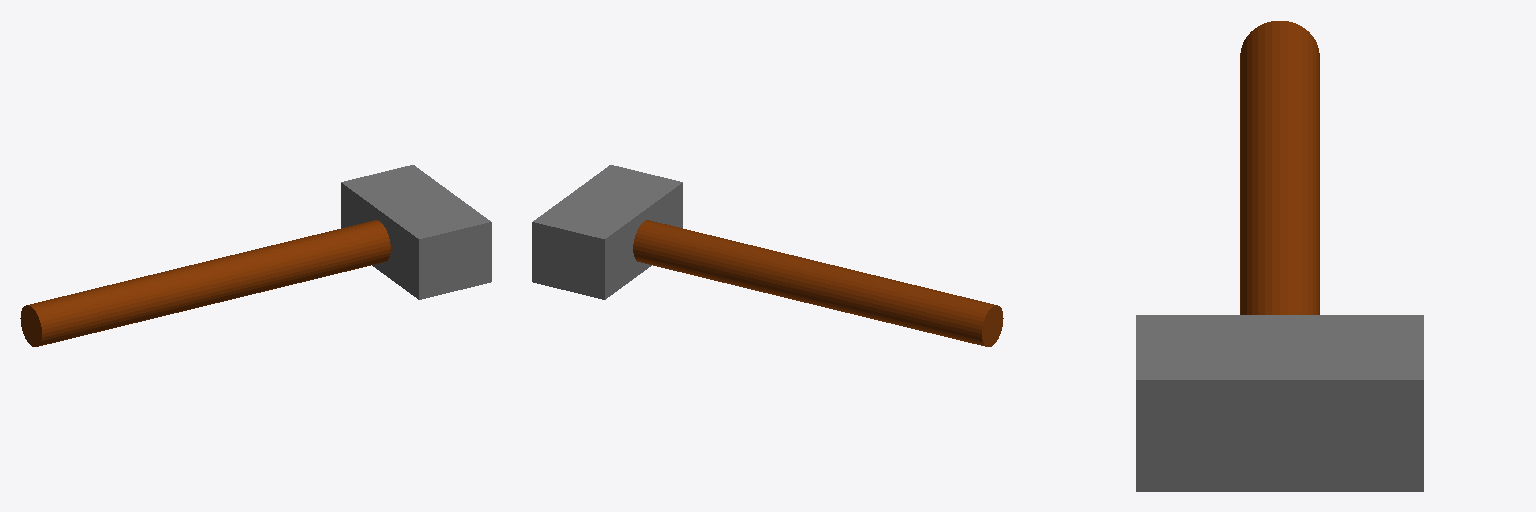
robot.urdf — handle_head:
<?xml version="1.0"?>
<robot name="handle_head">

  <link name="handle_head">
    <!-- Handle -->
    <visual>
              <origin xyz="0 0 0" rpy="0 -1.5707963267948966 0"/>
        <geometry>
          <cylinder length="0.18410086197396977" radius="0.009892291693300524"/>
        </geometry>
        
      <material name="brown">
        <color rgba="0.55 0.27 0.07 1.0"/>
      </material>
    </visual>
    <collision>
              <origin xyz="0 0 0" rpy="0 -1.5707963267948966 0"/>
        <geometry>
          <cylinder length="0.18410086197396977" radius="0.009892291693300524"/>
        </geometry>
        
    </collision>

    <!-- Head -->
    <visual>
              <origin xyz="0.11116212925354912 0 0" rpy="0 0 0"/>
        <geometry>
          <box size="0.03822339653312847 0.07156089356314176 0.030554833561515945"/>
        </geometry>
        
      <material name="gray">
        <color rgba="0.5 0.5 0.5 1.0"/>
      </material>
    </visual>
    <collision>
              <origin xyz="0.11116212925354912 0 0" rpy="0 0 0"/>
        <geometry>
          <box size="0.03822339653312847 0.07156089356314176 0.030554833561515945"/>
        </geometry>
        
    </collision>

    <inertial>
      <origin xyz="0.07529396940512584 0 0" rpy="0 0 0"/>
      <mass value="0.11155635064917752"/>
      <inertia ixx="3.986169912727231e-05" iyy="0.00043417302519130346" izz="0.00046053980339735357" ixy="0" ixz="0" iyz="0"/>
    </inertial>
  </link>

</robot>

--- Facts derived from the render (not from the file) ---
3 views of the same robot in one strip: view 1: azimuth 30°, elevation 25°; view 2: azimuth 150°, elevation 25°; view 3: azimuth 270°, elevation 25° (orthographic).
Model handle_head with 1 links and 0 joints (none), rooted at handle_head, posed every joint at zero.
Visible links, largest first — view 1: handle_head; view 2: handle_head; view 3: handle_head.
Boxes of the visible links, bbox=[...] form: handle_head: bbox=[20, 165, 491, 346]; handle_head: bbox=[532, 165, 1003, 346]; handle_head: bbox=[1136, 21, 1423, 491].
Bounding box of the posed robot: 0.2223 × 0.0716 × 0.0306 m (x, y, z).
Geometry: primitives only (box / cylinder / sphere), no mesh files.
